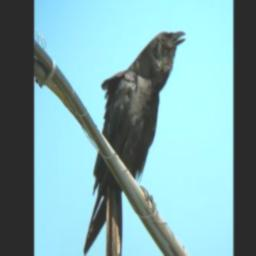Crow: (82, 28, 186, 256)
